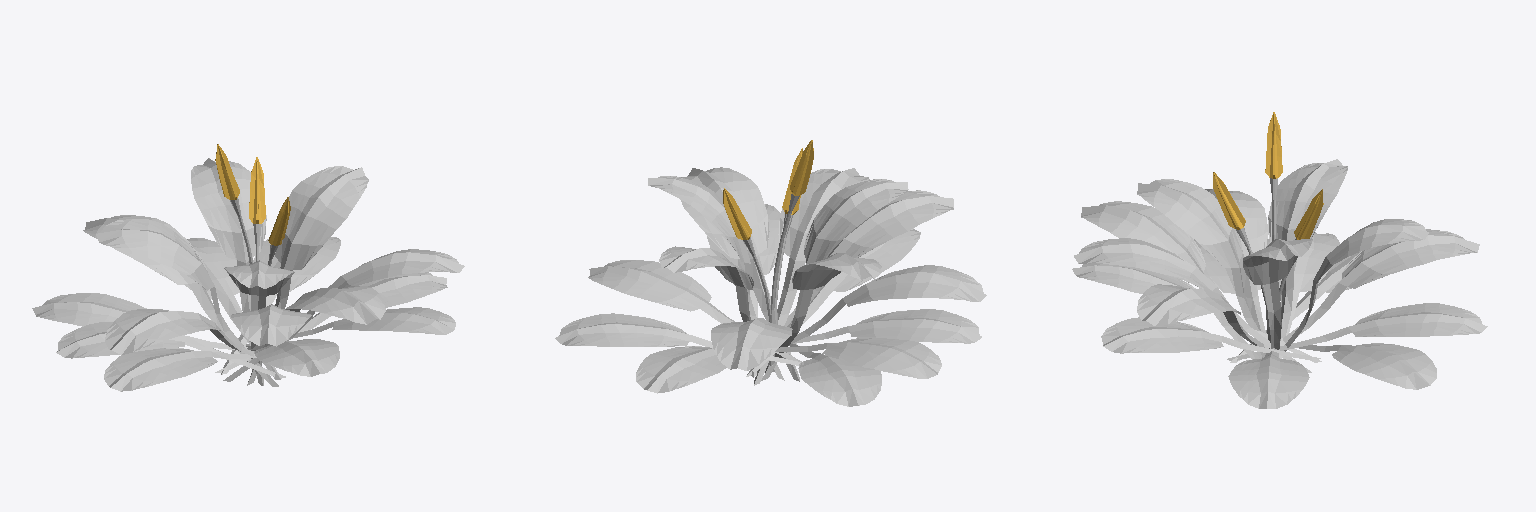
The picture shows the model from 3 angles: view 1: azimuth 30°, elevation 25°; view 2: azimuth 150°, elevation 25°; view 3: azimuth 270°, elevation 25°; orthographic projection.
Parts seen in each view (by area): view 1: Plane.043, Plane.037, Plane.046, Plane.045, Plane.052, Plane.042, Plane.048, Cube.004, Plane.039, Plane.041, Plane.049, Plane.047 (+6 smaller); view 2: Plane.044, Plane.042, Plane.045, Plane.040, Plane.050, Plane.052, Plane.051, Plane.039, Plane.047, Plane.048, Cube.004, Plane.036 (+6 smaller); view 3: Plane.040, Plane.036, Plane.038, Plane.051, Plane.046, Plane.049, Plane.039, Plane.050, Plane.044, Plane.042, Cube.004, Plane.043 (+6 smaller).
Boxes of the visible parts, x1=… form: Plane.043: x1=247, y1=166, x2=368, y2=385; Plane.037: x1=191, y1=158, x2=266, y2=385; Plane.046: x1=96, y1=219, x2=244, y2=353; Plane.045: x1=105, y1=309, x2=253, y2=356; Plane.052: x1=104, y1=348, x2=256, y2=391; Plane.042: x1=223, y1=249, x2=464, y2=381; Plane.048: x1=32, y1=293, x2=285, y2=378; Cube.004: x1=215, y1=144, x2=290, y2=373; Plane.039: x1=247, y1=286, x2=385, y2=361; Plane.041: x1=246, y1=339, x2=339, y2=376; Plane.049: x1=246, y1=307, x2=455, y2=345; Plane.047: x1=56, y1=322, x2=247, y2=358; Plane.044: x1=588, y1=260, x2=801, y2=361; Plane.042: x1=681, y1=167, x2=799, y2=381; Plane.045: x1=791, y1=265, x2=986, y2=343; Plane.040: x1=761, y1=179, x2=908, y2=380; Plane.050: x1=555, y1=313, x2=800, y2=365; Plane.052: x1=793, y1=309, x2=981, y2=343; Plane.051: x1=784, y1=190, x2=953, y2=326; Plane.039: x1=754, y1=168, x2=869, y2=385; Plane.047: x1=775, y1=338, x2=941, y2=378; Plane.048: x1=789, y1=344, x2=881, y2=406; Cube.004: x1=723, y1=140, x2=813, y2=371; Plane.036: x1=711, y1=318, x2=792, y2=370; Plane.040: x1=1137, y1=179, x2=1260, y2=342; Plane.036: x1=1259, y1=229, x2=1479, y2=358; Plane.038: x1=1227, y1=303, x2=1487, y2=360; Plane.051: x1=1081, y1=201, x2=1259, y2=359; Plane.046: x1=1268, y1=159, x2=1347, y2=337; Plane.049: x1=1101, y1=317, x2=1320, y2=360; Plane.039: x1=1074, y1=238, x2=1311, y2=372; Plane.050: x1=1299, y1=343, x2=1436, y2=389; Plane.044: x1=1228, y1=348, x2=1309, y2=408; Plane.042: x1=1137, y1=284, x2=1261, y2=346; Cube.004: x1=1213, y1=112, x2=1323, y2=348; Plane.043: x1=1243, y1=238, x2=1312, y2=349.
Size of the model in its own units: 7.43 by 4.77 by 7.25.
3 materials, 1 textured.